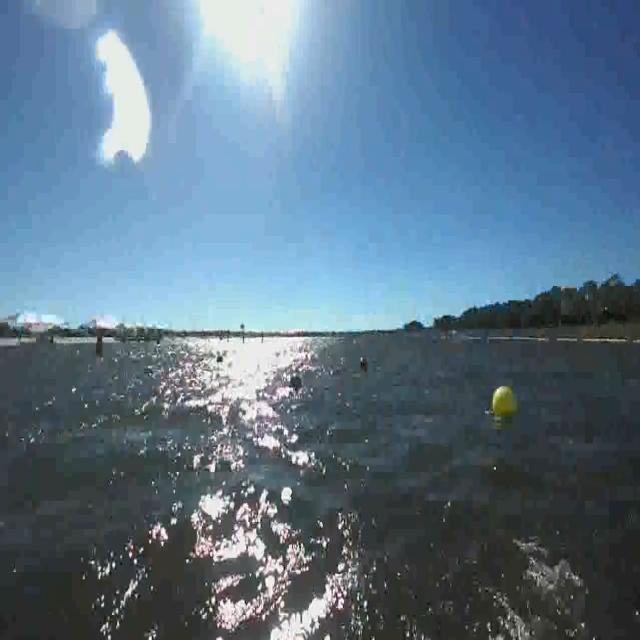green-buoy: (289, 370, 301, 387)
red-buoy: (358, 350, 370, 372)
yellow-buoy: (492, 388, 519, 421)
